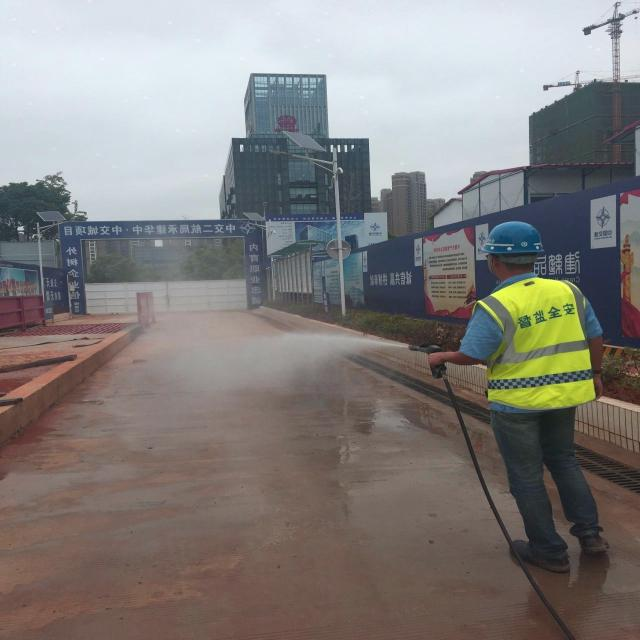hand_noglove: (422, 343, 448, 377)
head_helmet: (477, 220, 553, 256)
person: (480, 218, 598, 559)
shoes: (499, 528, 578, 582), (568, 518, 620, 566)
vest: (475, 281, 595, 413)
